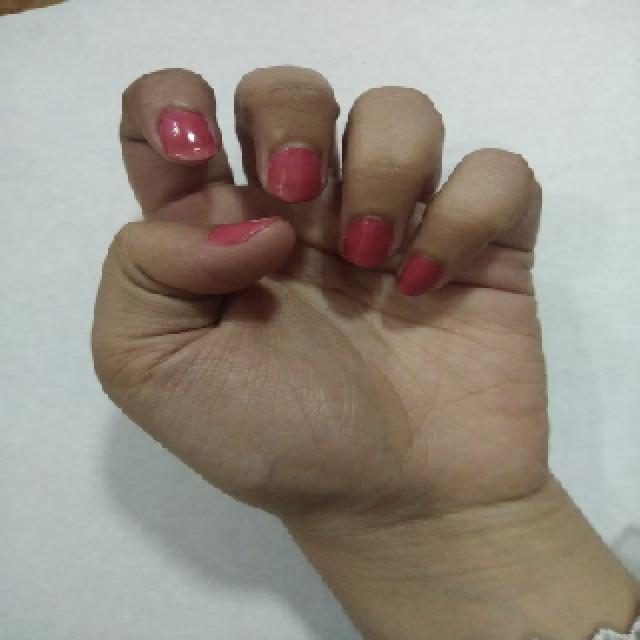Nail: (156, 108, 220, 162), (266, 144, 322, 202), (340, 216, 394, 268), (398, 254, 442, 295), (208, 219, 272, 245)
